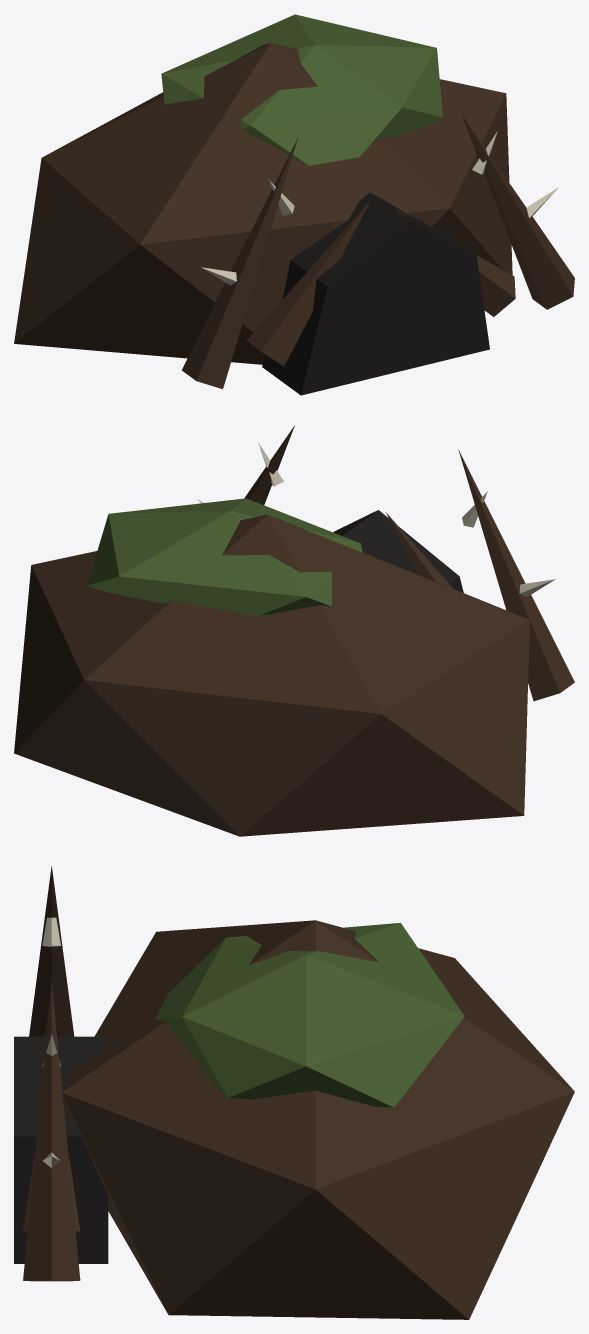
Rendered from thornback_hollow.glb.
3 views of the same model, one above another, from view 1: azimuth 30°, elevation 25°; view 2: azimuth 150°, elevation 25°; view 3: azimuth 270°, elevation 25° (orthographic). The views are drawn at different scales.
Visible parts, largest first — view 1: thornback_hollow; view 2: thornback_hollow; view 3: thornback_hollow.
Part boxes in pixels (left/top/right/bottom): thornback_hollow: left=14, top=14, right=574, bottom=395; thornback_hollow: left=14, top=425, right=574, bottom=836; thornback_hollow: left=14, top=866, right=574, bottom=1319.
Bounding box in the file's own units: 3.65 × 1.73 × 2.98.
